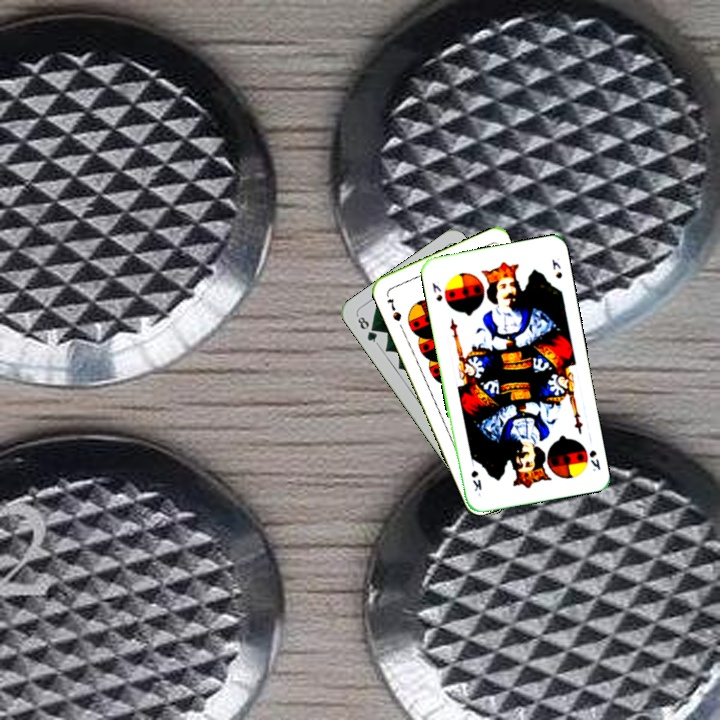G8: (353, 311, 381, 347)
S7: (382, 294, 404, 324)
SK: (585, 446, 603, 474), (428, 277, 445, 304)
